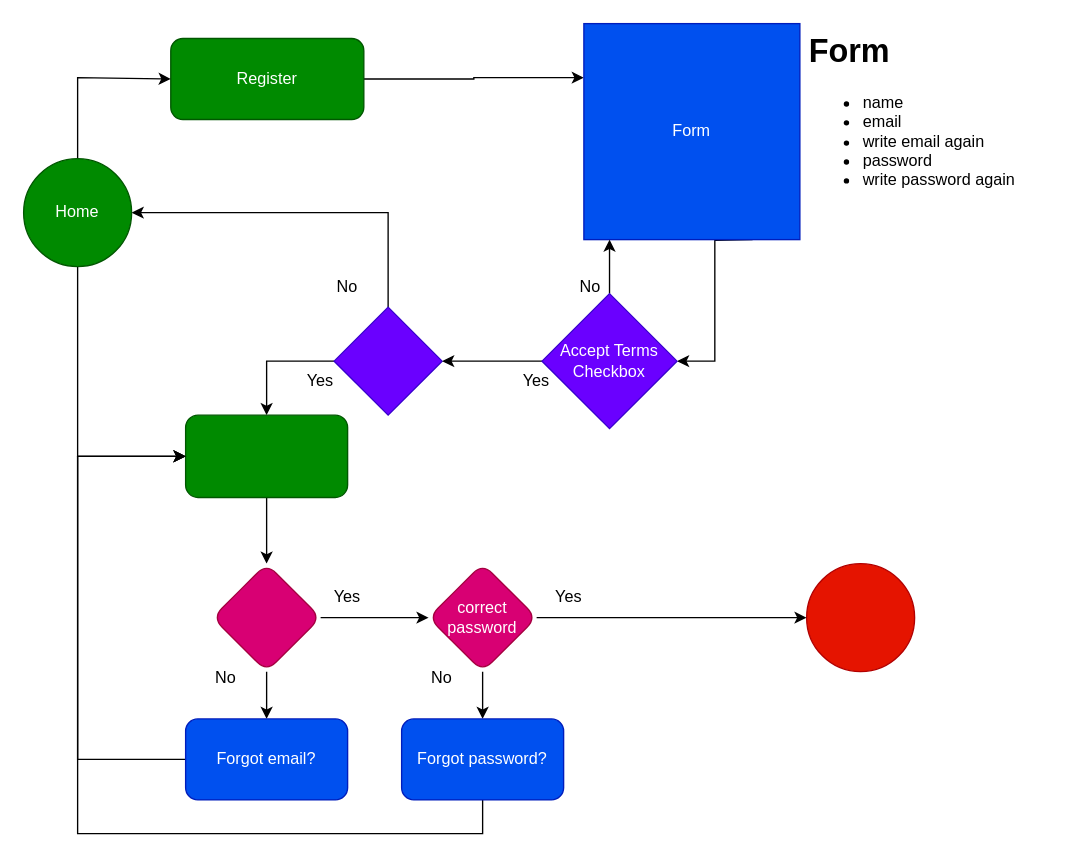
The diagram is 1073 pixels wide and 868 high, and some of its shapes have lost their labels. The shapes that lost their labels are listed below. From the top down, each one's centre as x and y in pixels, then its label:
At pixel 387 360: "Submit".
At pixel 266 455: "Login".
At pixel 266 617: "correct mail".
At pixel 860 617: "Home Logged-In".
